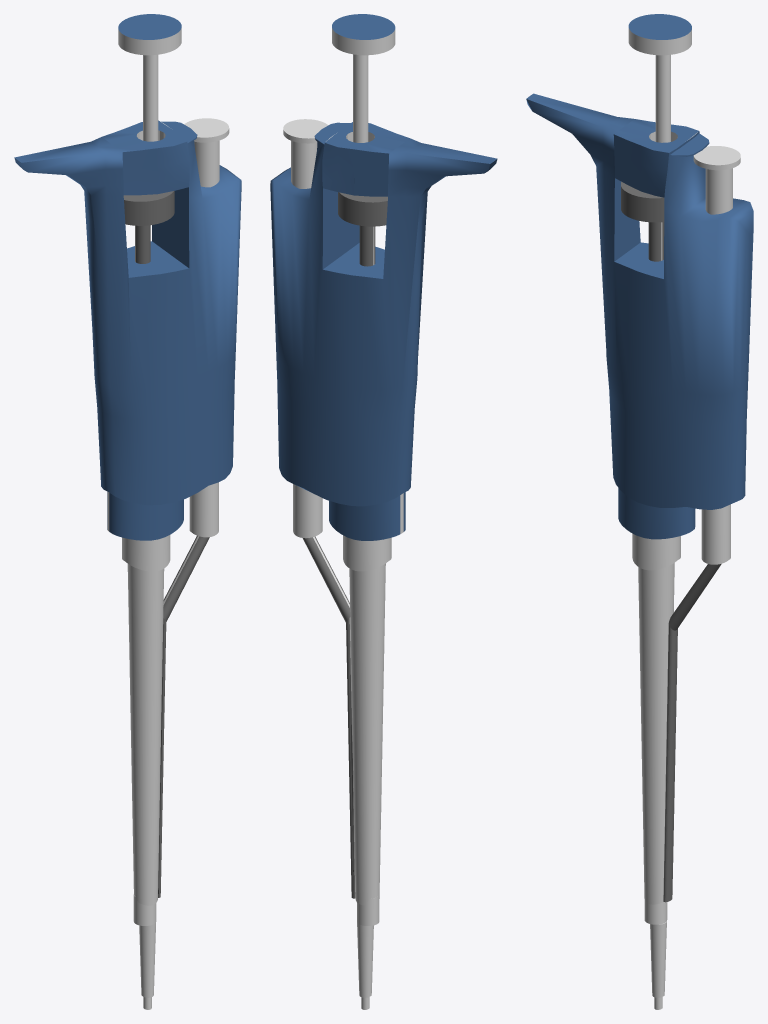
File: Single-Channel-Pippette.fbx
3 views of the same model, side by side, from view 1: azimuth 30°, elevation 25°; view 2: azimuth 150°, elevation 25°; view 3: azimuth 330°, elevation 25° (orthographic).
Parts seen in each view (by area): view 1: Single-Channel Pipette; view 2: Single-Channel Pipette; view 3: Single-Channel Pipette.
Boxes of the visible parts, x1,y1,x2,y2 form: Single-Channel Pipette: (14, 14, 241, 1009); Single-Channel Pipette: (270, 14, 497, 1009); Single-Channel Pipette: (526, 14, 753, 1009).
Bounding box in the file's own units: 24.02 × 102 × 7.03.
